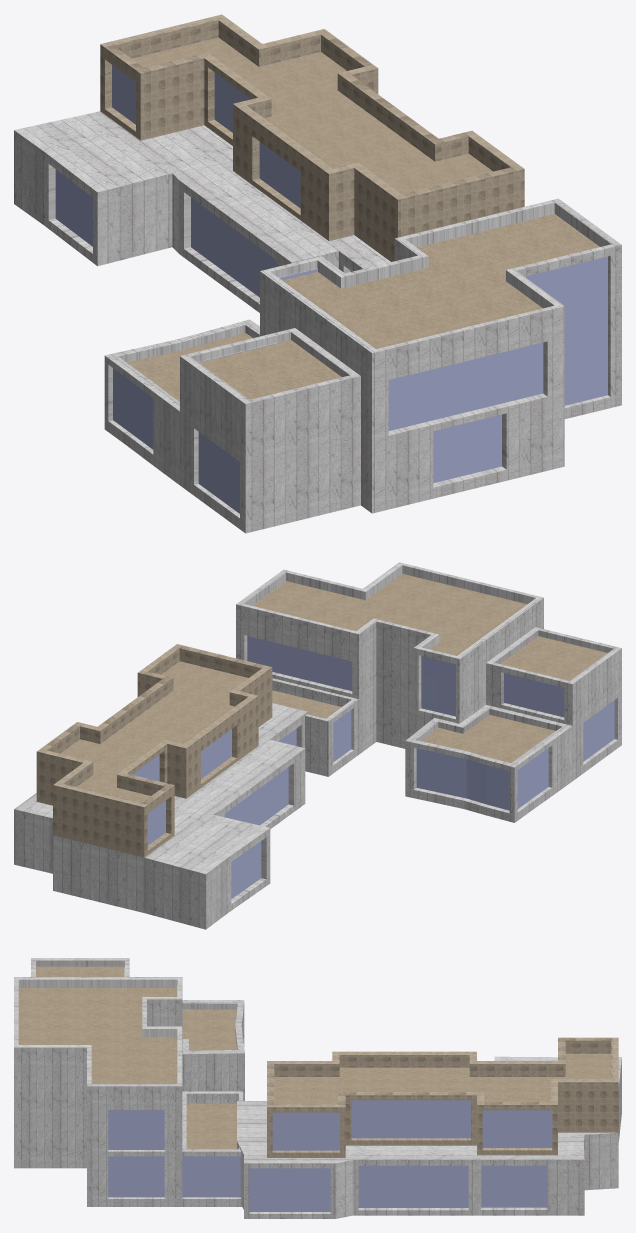
3 views of the same model, one above another, from view 1: azimuth 30°, elevation 25°; view 2: azimuth 150°, elevation 25°; view 3: azimuth 270°, elevation 25° (orthographic). The views are drawn at different scales.
Parts seen in each view (by area): view 1: Cube.019, Cube.018; view 2: Cube.019, Cube.018; view 3: Cube.018, Cube.019.
Part boxes in pixels (x1=…): Cube.019: x1=104, y1=198, x2=621, y2=533; Cube.018: x1=14, y1=14, x2=524, y2=312; Cube.019: x1=236, y1=562, x2=621, y2=822; Cube.018: x1=14, y1=644, x2=307, y2=929; Cube.018: x1=237, y1=1037, x2=621, y2=1218; Cube.019: x1=14, y1=958, x2=244, y2=1206.
Bounding box in the file's own units: 35.2 × 11.97 × 54.65.
Materials: 4 (3 with a texture image).
